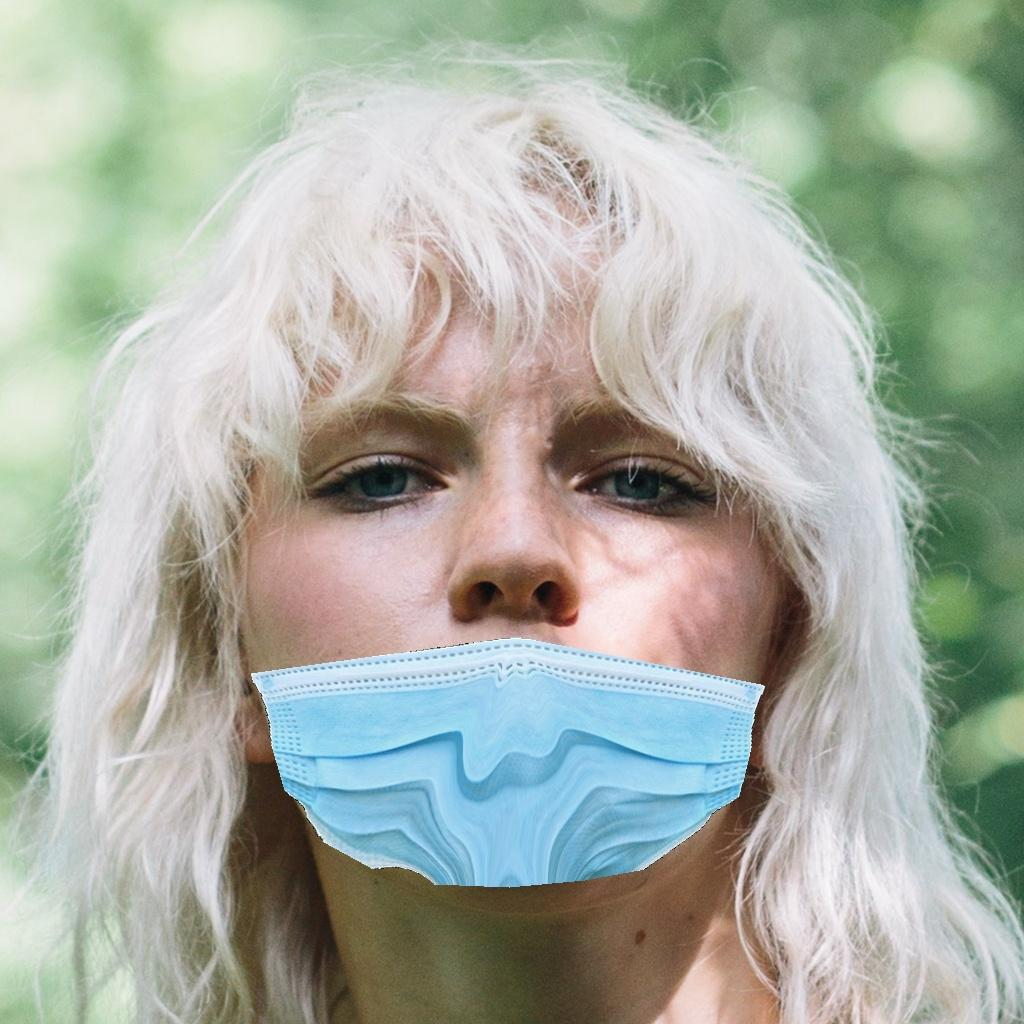Máscara Incorreta: (250, 323, 771, 889)
